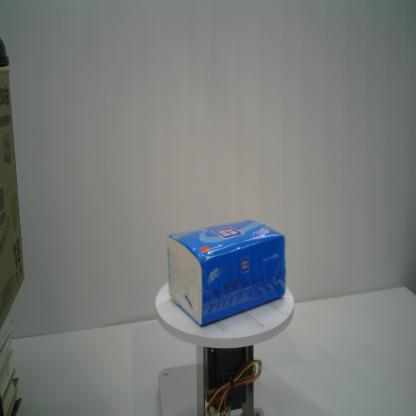Tissue: (167, 218, 287, 326)
